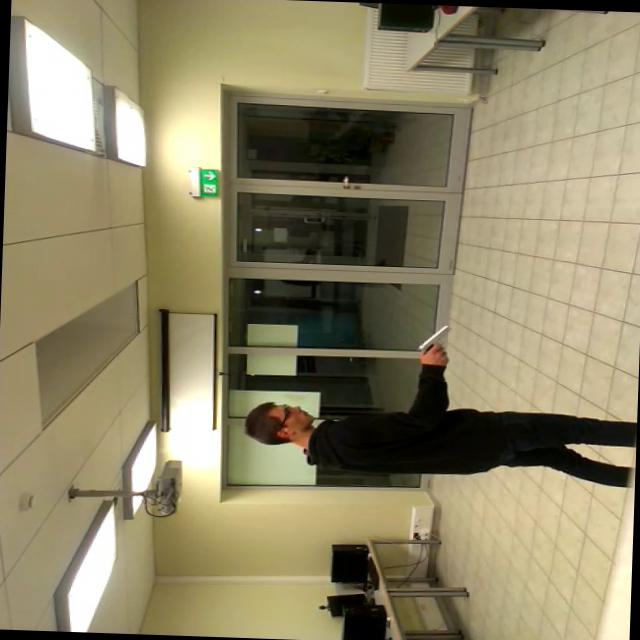handgun: (406, 316, 462, 366)
